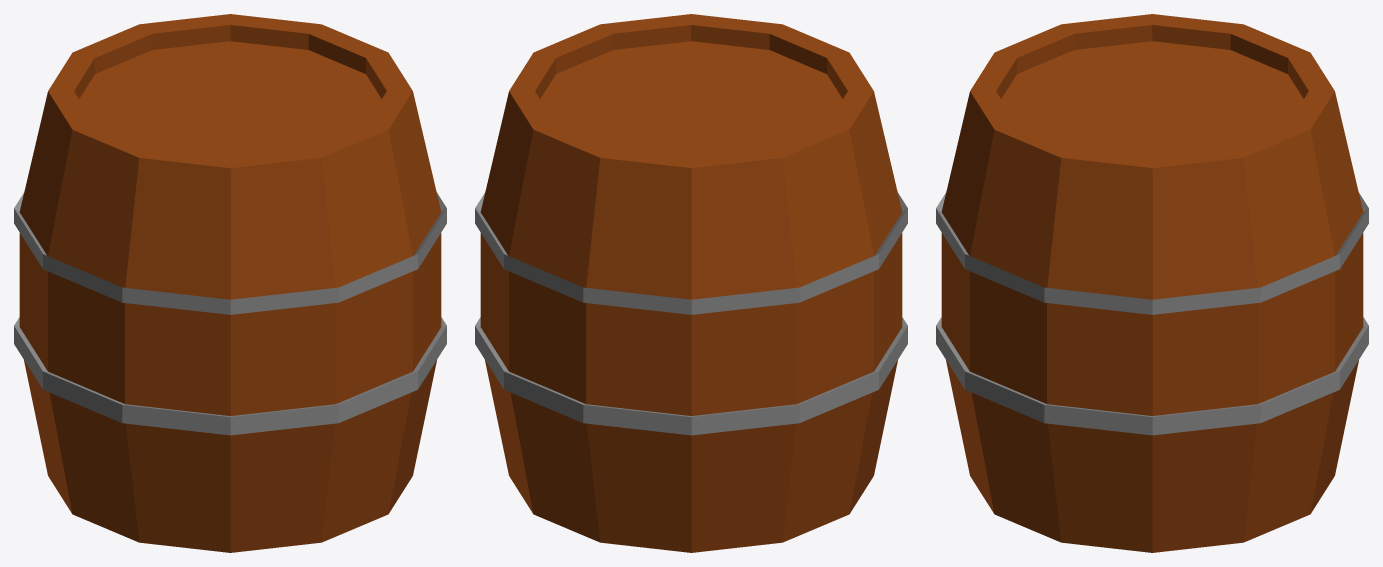
The model's file is barrel.dae.
3 views of the same model, side by side, from view 1: azimuth 30°, elevation 25°; view 2: azimuth 150°, elevation 25°; view 3: azimuth 270°, elevation 25° (orthographic).
Visible parts, largest first — view 1: barrel; view 2: barrel; view 3: barrel.
Boxes of the visible parts, x1=… form: barrel: x1=14, y1=14, x2=446, y2=552; barrel: x1=475, y1=14, x2=907, y2=552; barrel: x1=936, y1=14, x2=1368, y2=552.
Size of the model in its own units: 1.13 by 1.13 by 1.1.
